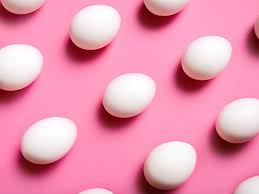eggs: (15, 113, 80, 166), (141, 134, 195, 194), (68, 3, 126, 52), (183, 34, 235, 86), (214, 96, 259, 154), (101, 70, 153, 120), (0, 41, 42, 88), (138, 0, 199, 18), (0, 0, 47, 21), (230, 170, 259, 194)
